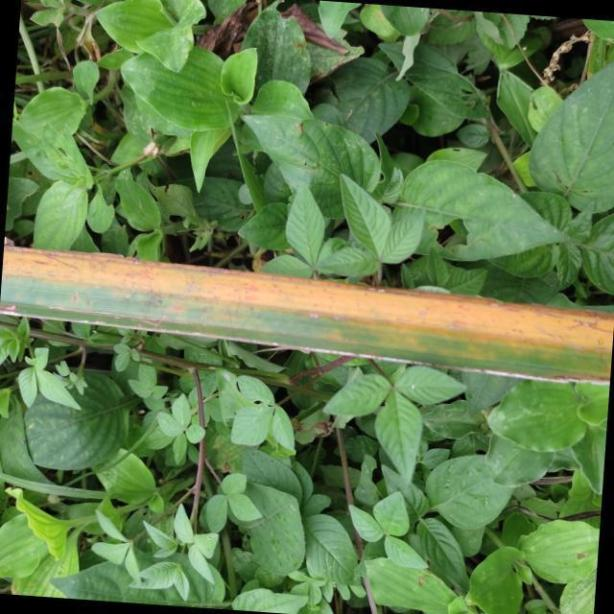Megnesium: (0, 243, 614, 387)
